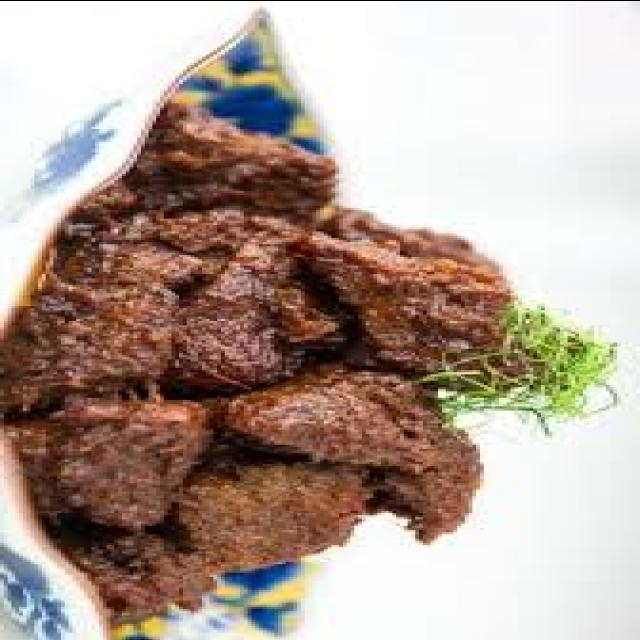rendang: (0, 98, 510, 619)
